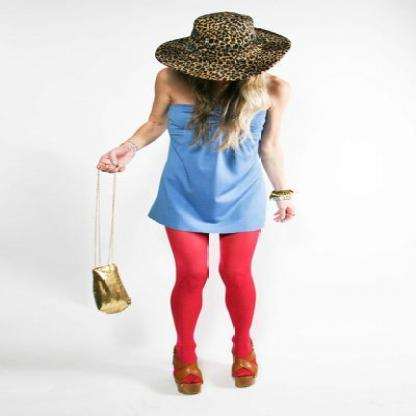bag: (93, 266, 130, 314)
dress: (148, 103, 274, 233)
hat: (155, 12, 290, 81)
shoe: (173, 348, 257, 395)
